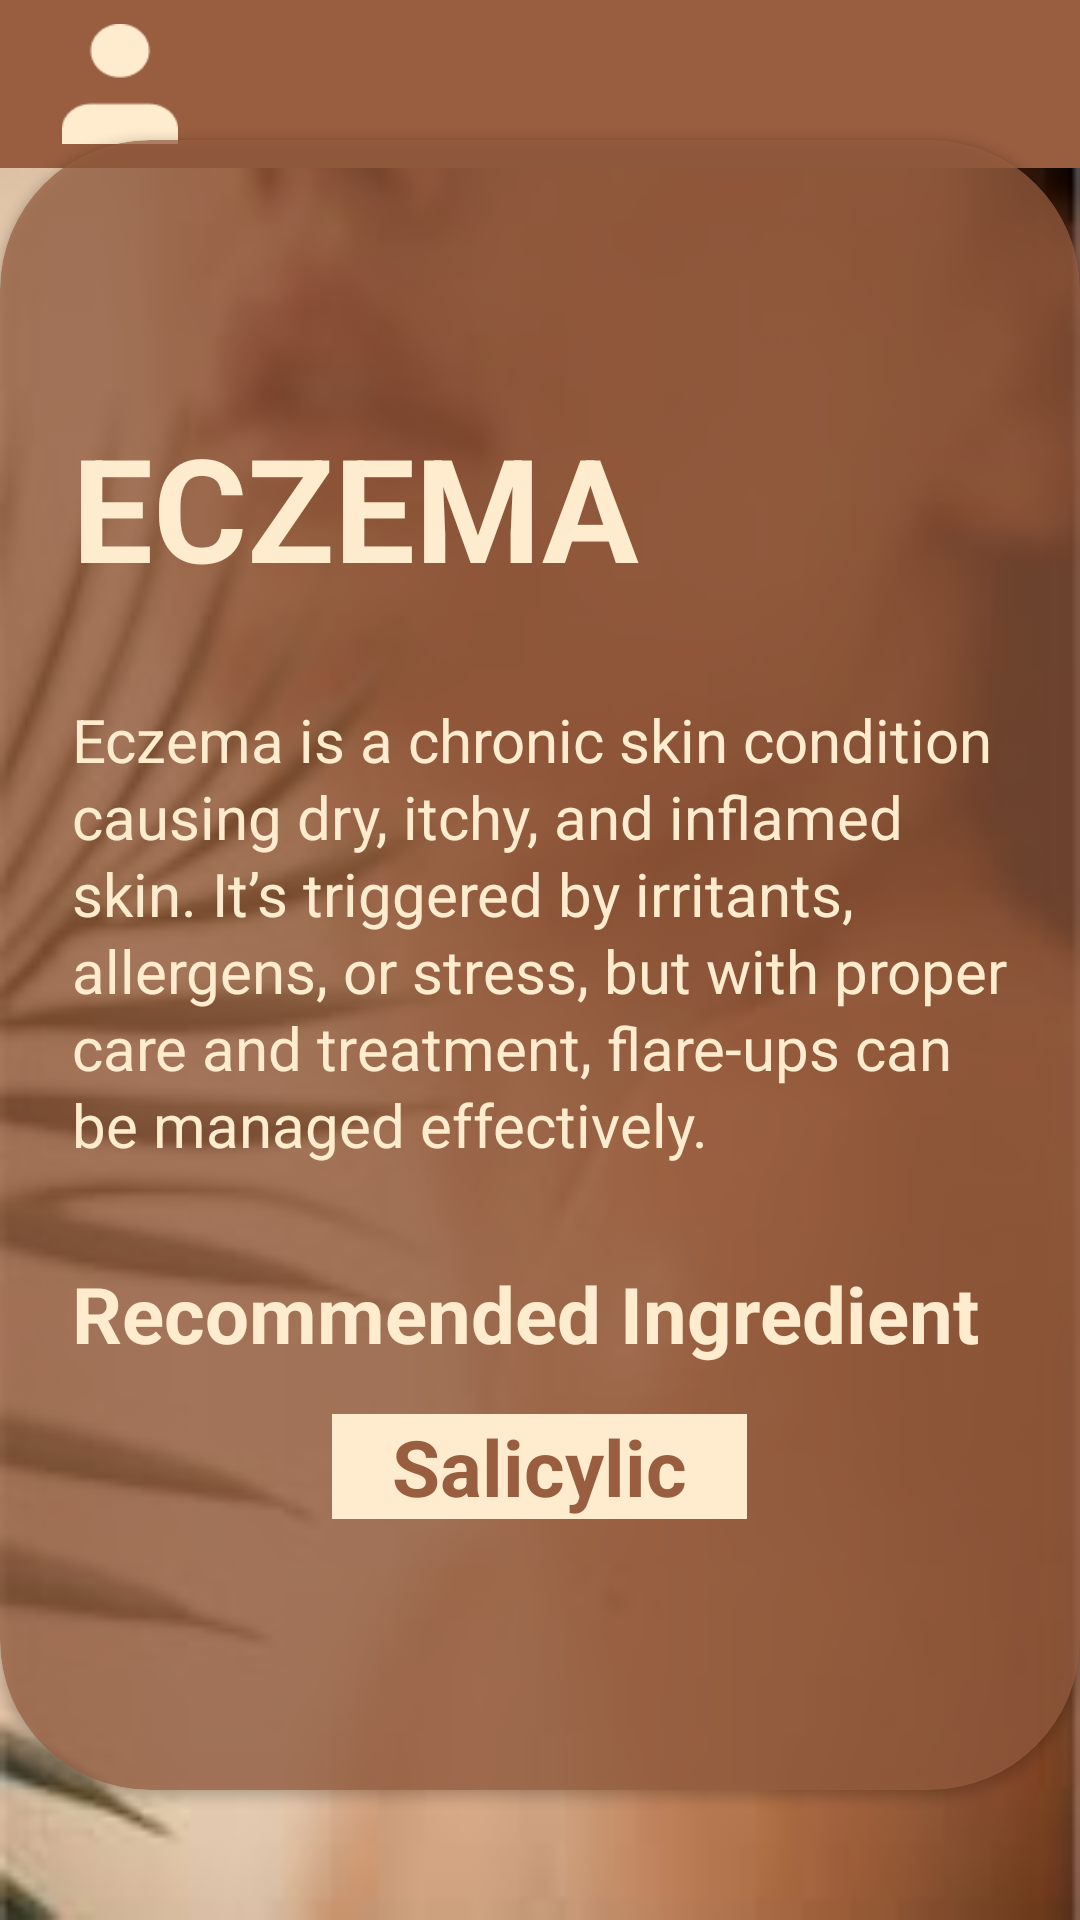

Where to tap for icons on this 1080*1920 app screen, as [x,y]:
Profile Icon: [120,84]
